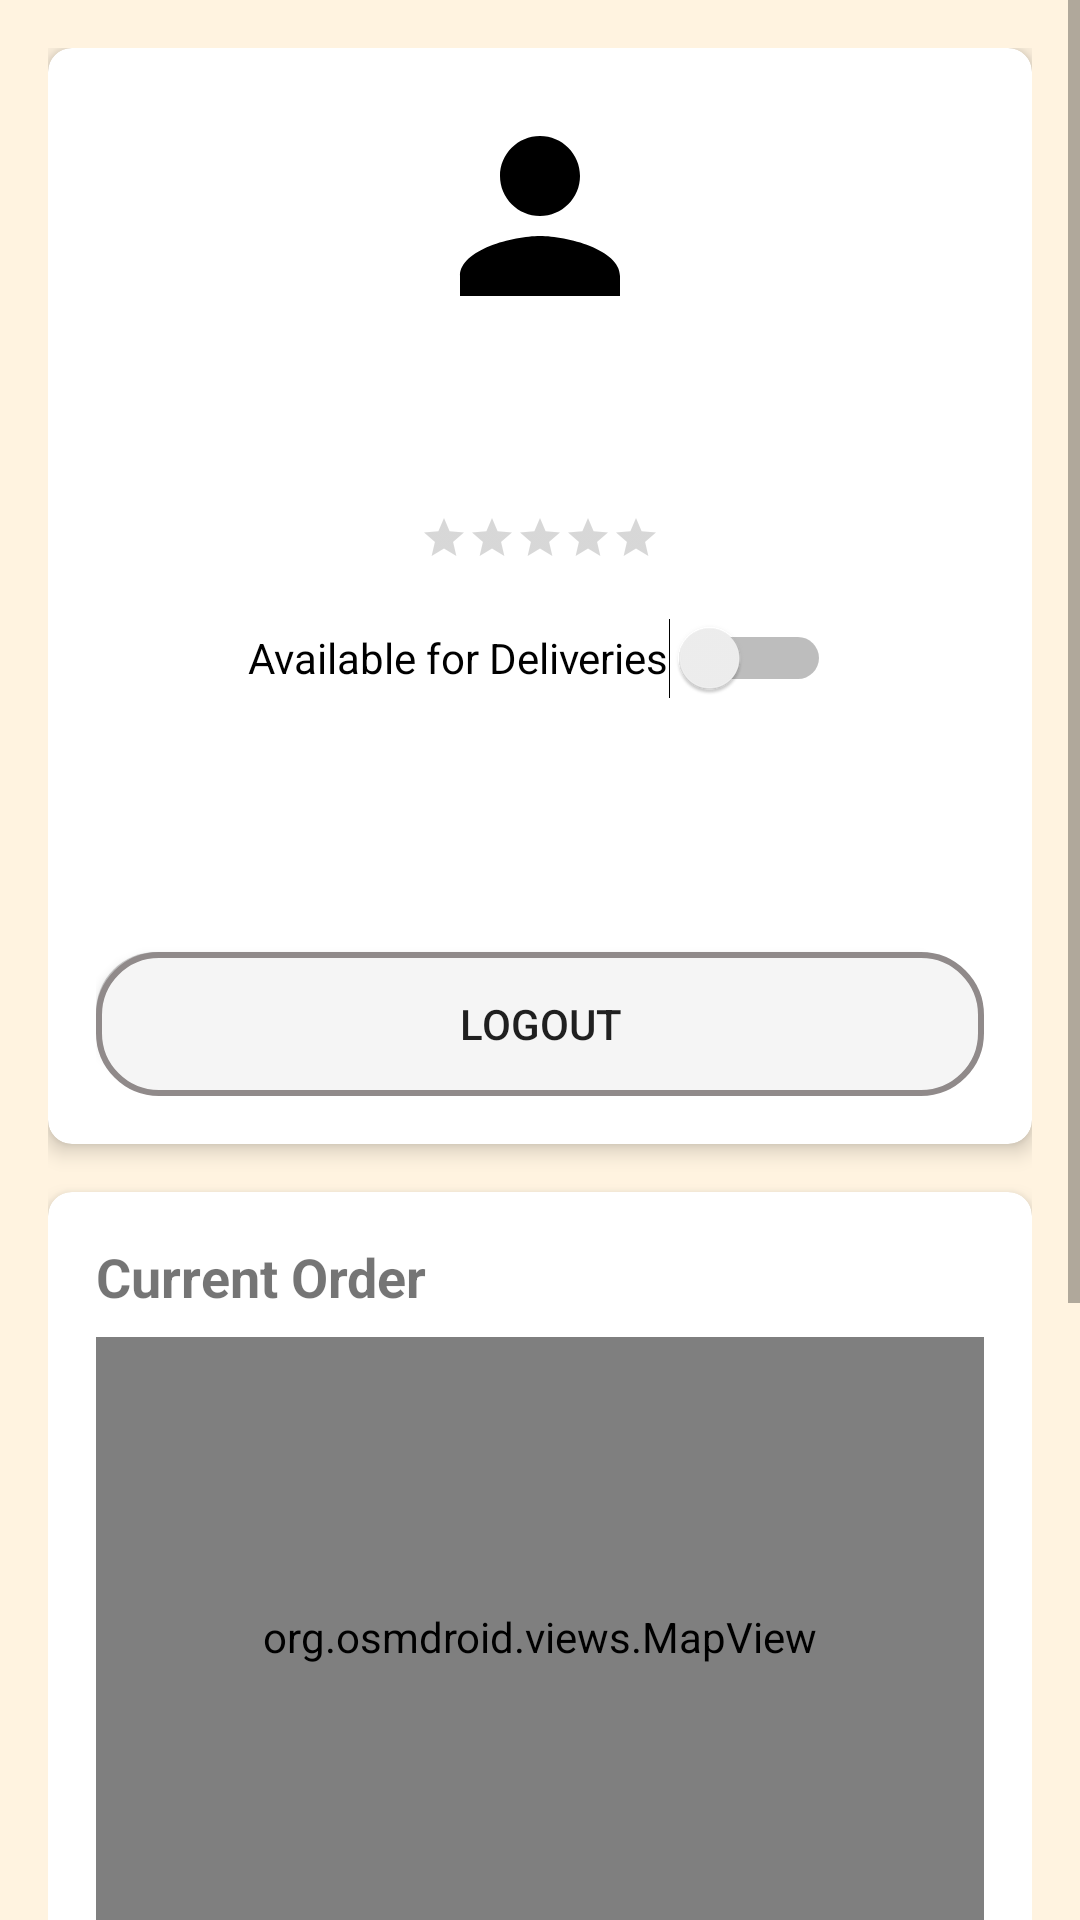

Icon click points for this 1080*1920 phone screenshot, format point (x, y):
profile: point (540, 216)
